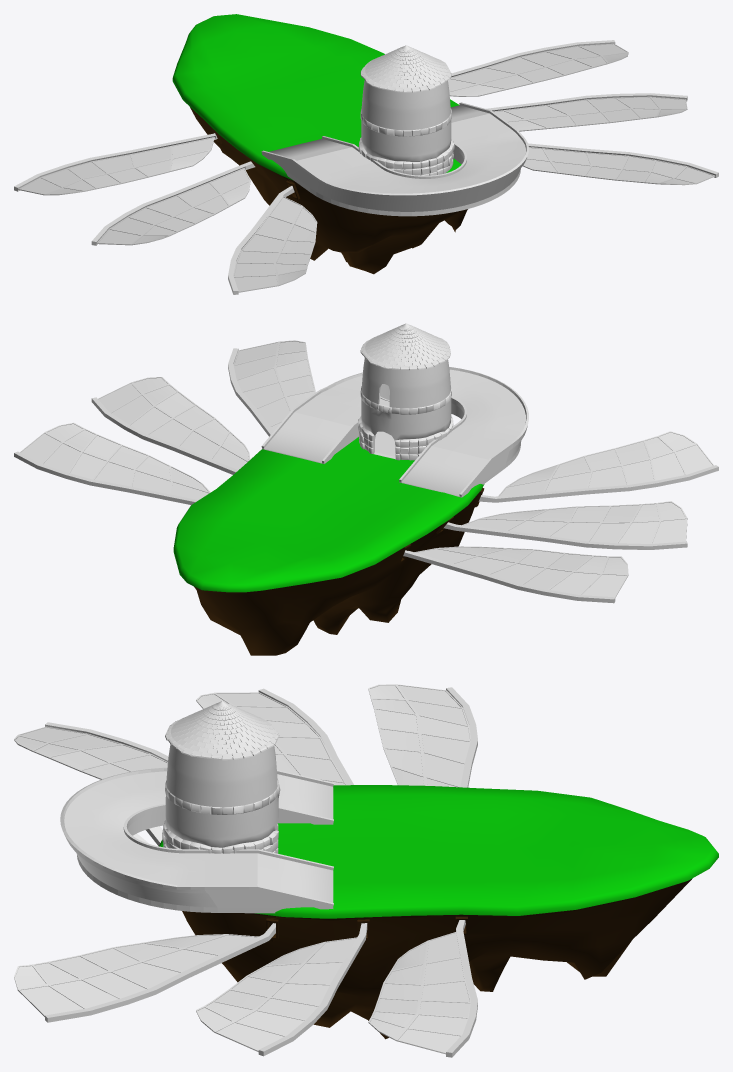
3 views of the same model, one above another, from view 1: azimuth 30°, elevation 25°; view 2: azimuth 150°, elevation 25°; view 3: azimuth 270°, elevation 25° (orthographic). The views are drawn at different scales.
Parts seen in each view (by area): view 1: ST_Island, ST_Arriere, ST_Moulin, _Wing_01, _Wing_02, _Wing_03, _Wing_04, _Wing_06, _Wing_05; view 2: ST_Island, ST_Arriere, ST_Moulin, _Wing_01, _Wing_02, _Wing_03, _Wing_04, _Wing_05, _Wing_06; view 3: ST_Island, ST_Arriere, ST_Moulin, _Wing_06, _Wing_05, _Wing_04, _Wing_03, _Wing_02, _Wing_01.
Part boxes in pixels (x1,y1,x2,y2): ST_Island: [172, 14, 467, 274]; ST_Arriere: [261, 102, 528, 216]; ST_Moulin: [358, 45, 454, 175]; _Wing_01: [228, 186, 317, 294]; _Wing_02: [91, 161, 255, 245]; _Wing_03: [14, 133, 217, 195]; _Wing_04: [448, 40, 628, 96]; _Wing_06: [523, 143, 718, 185]; _Wing_05: [486, 93, 687, 131]; ST_Island: [173, 437, 484, 655]; ST_Arriere: [261, 367, 528, 497]; ST_Moulin: [358, 323, 453, 460]; _Wing_01: [478, 431, 718, 502]; _Wing_02: [443, 501, 687, 549]; _Wing_03: [403, 546, 628, 603]; _Wing_04: [14, 422, 210, 504]; _Wing_05: [91, 377, 250, 474]; _Wing_06: [228, 340, 315, 436]; ST_Island: [159, 785, 718, 1039]; ST_Arriere: [60, 767, 333, 913]; ST_Moulin: [162, 701, 280, 853]; _Wing_06: [14, 923, 275, 1022]; _Wing_05: [196, 923, 367, 1056]; _Wing_04: [368, 920, 477, 1057]; _Wing_03: [368, 684, 477, 787]; _Wing_02: [196, 688, 353, 785]; _Wing_01: [14, 722, 168, 779].
Bounding box in the file's own units: 14063 × 5945 × 11457.
